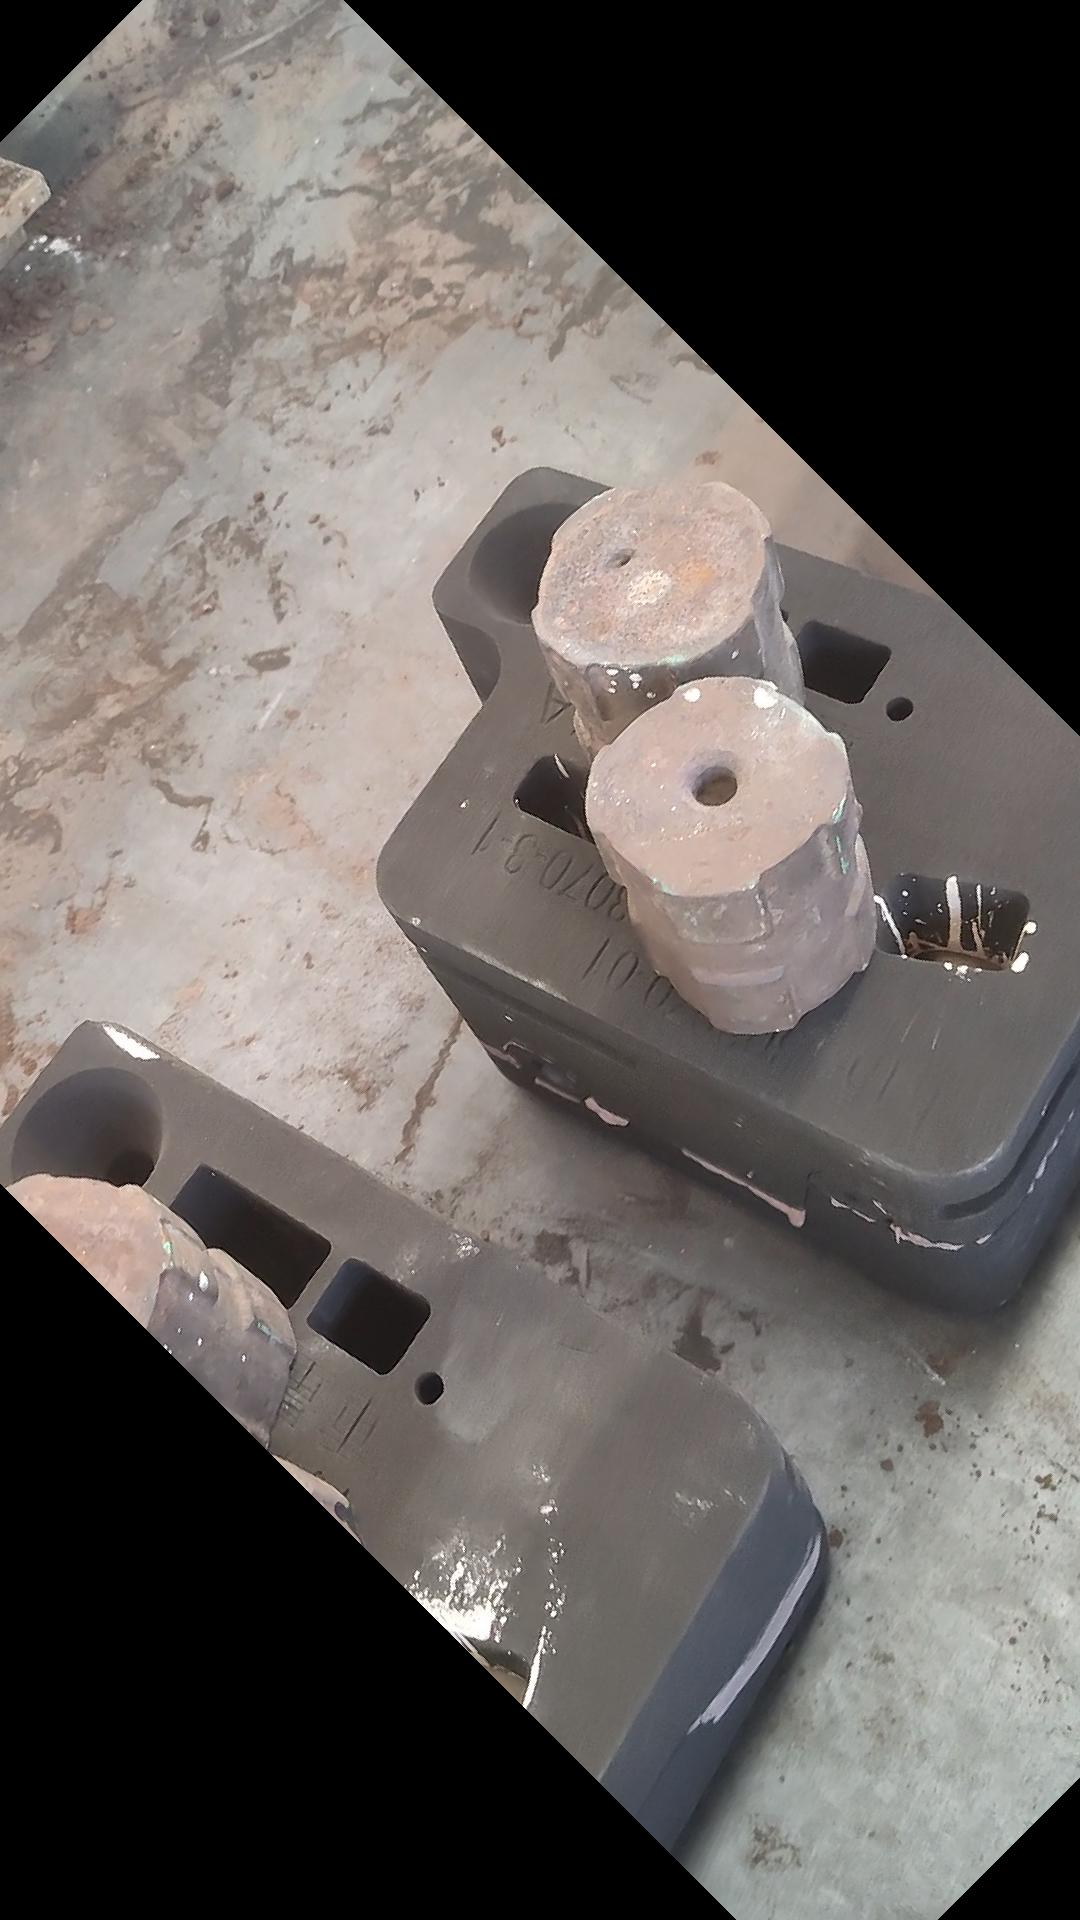pouring hole: (5, 1065, 167, 1207), (471, 498, 618, 626)
